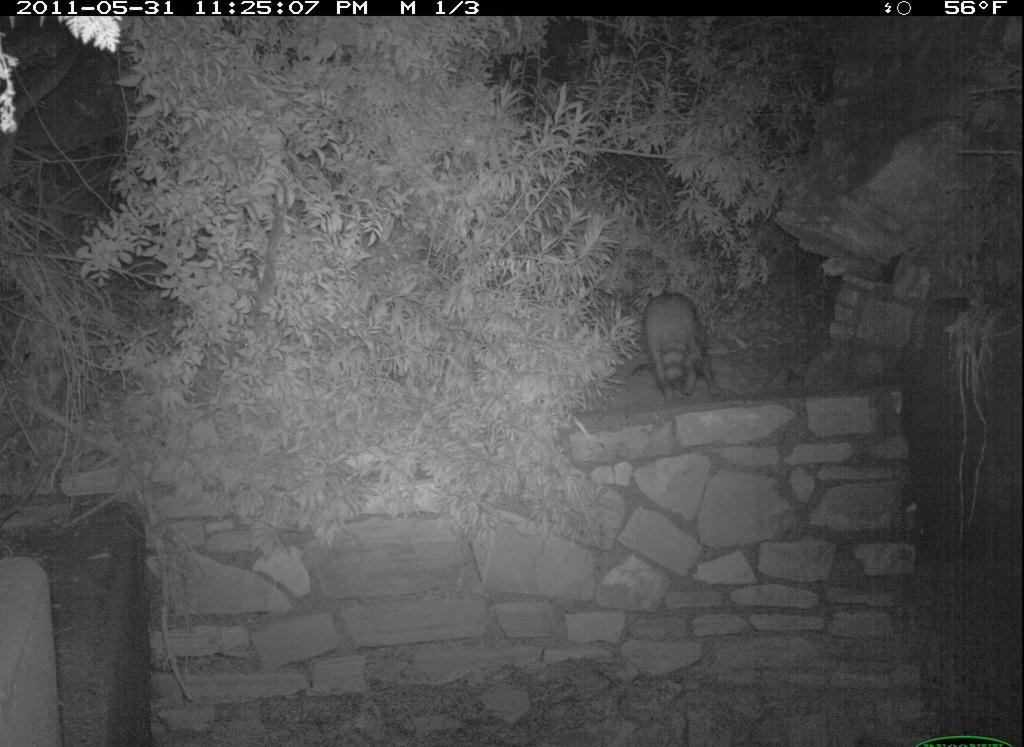raccoon: (634, 287, 738, 402)
